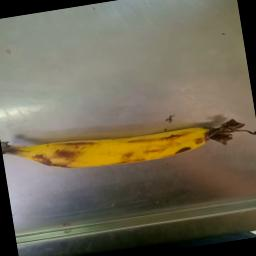Banana Overripe: (2, 94, 256, 192)
